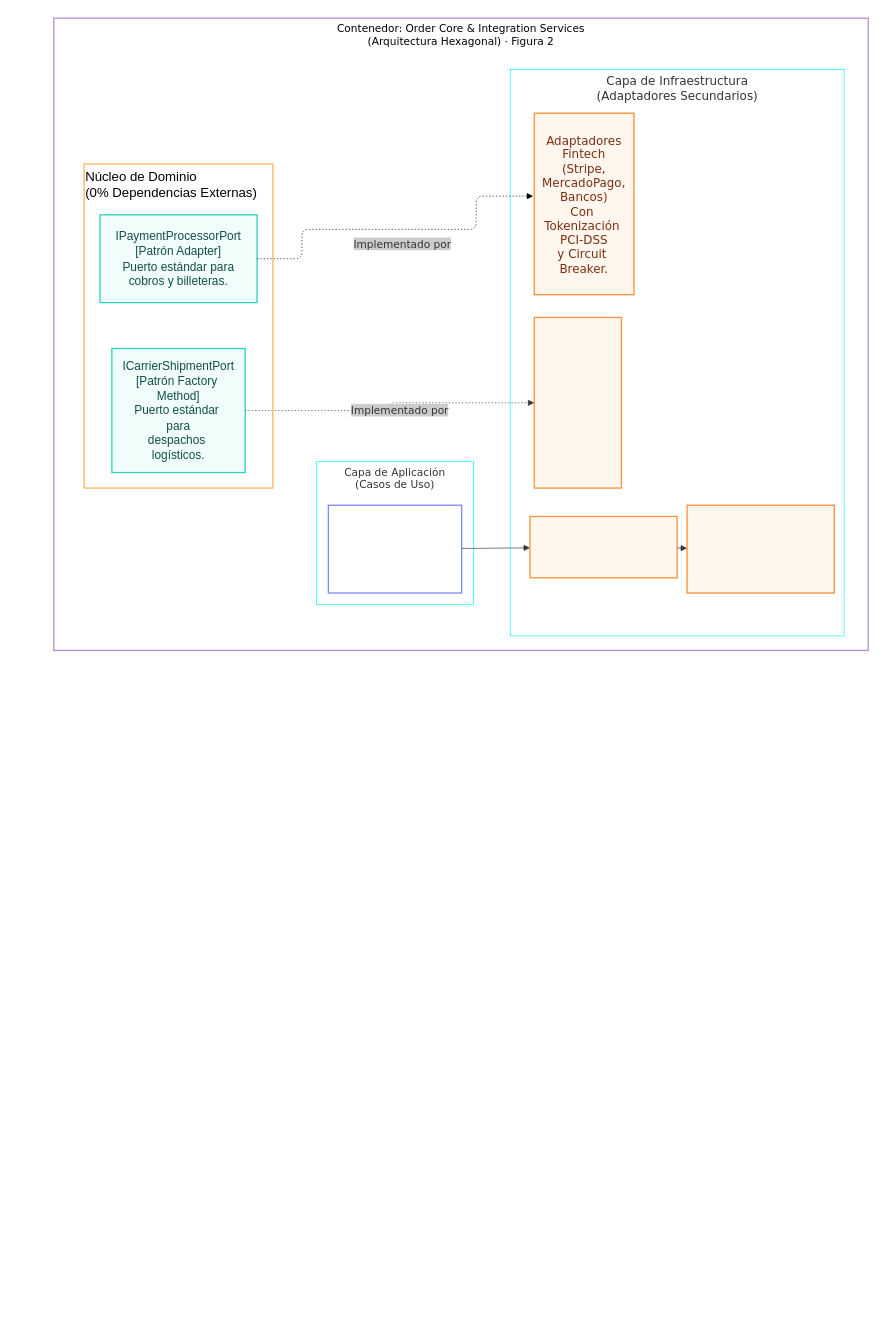
This 886x1336 diagram has some shape labels left out. The shapes that lost their labels are listed below. From the top down, each one's centre as x and y in pixels, then its label:
point 577,402: Adaptadores 3PL (DHL, FedEx, Flota Propia) Con Circuit Breaker y Timeouts.
point 394,548: CreateOrderUseCase Coordina validación, aranceles y persistencia.
point 603,546: PostgreSQLOrderRepository Persistencia SQL + Transactional Outbox.
point 760,548: OutboxEventPublisher Publica eventos garantizados en Kafka.
